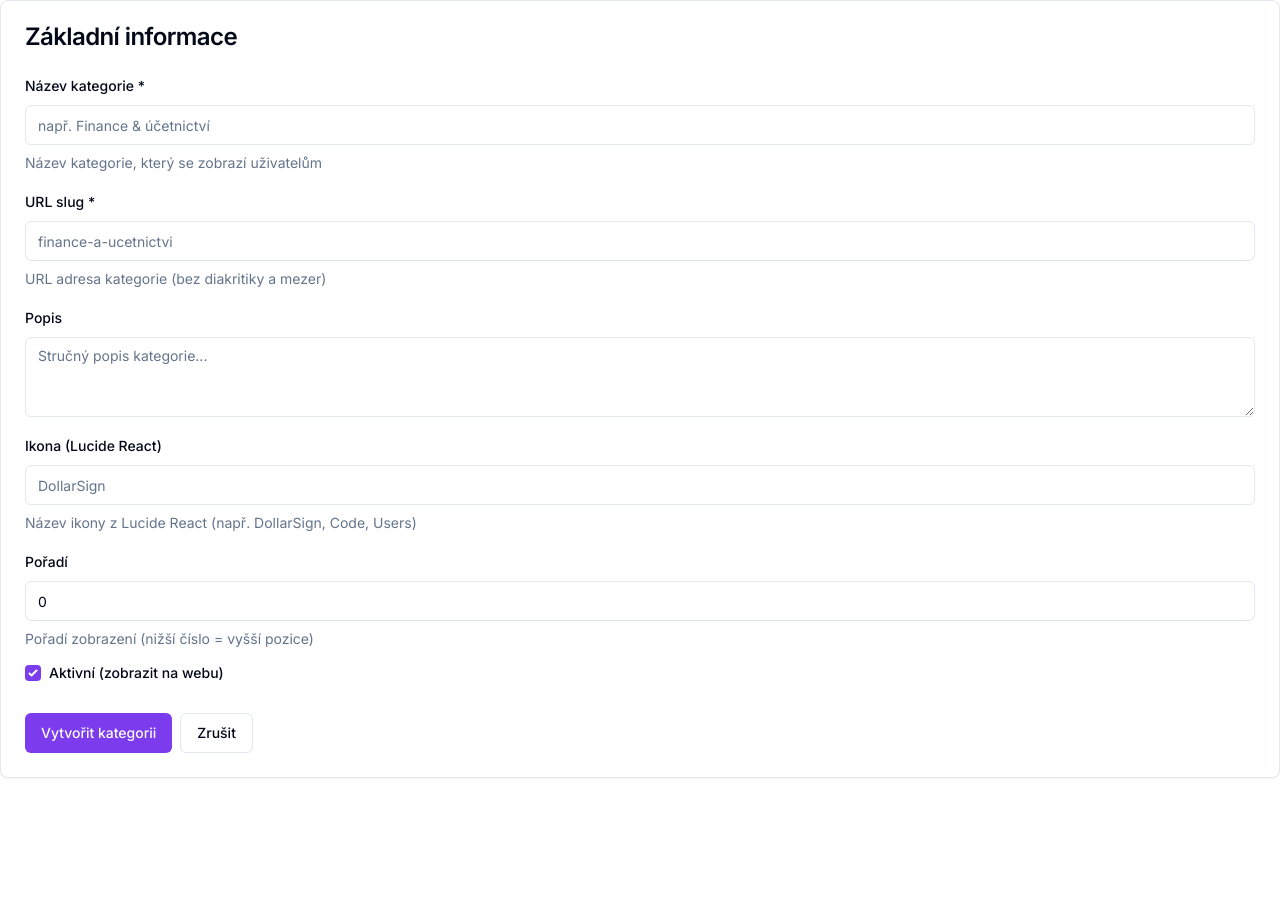
Test case: CategoryForm › should auto-generate slug from name
The width and height of the screenshot is (1280, 900).
In the field labelled "Název kategorie *": (640, 125) [25,105,1255,145], type "Finance & Účetnictví"
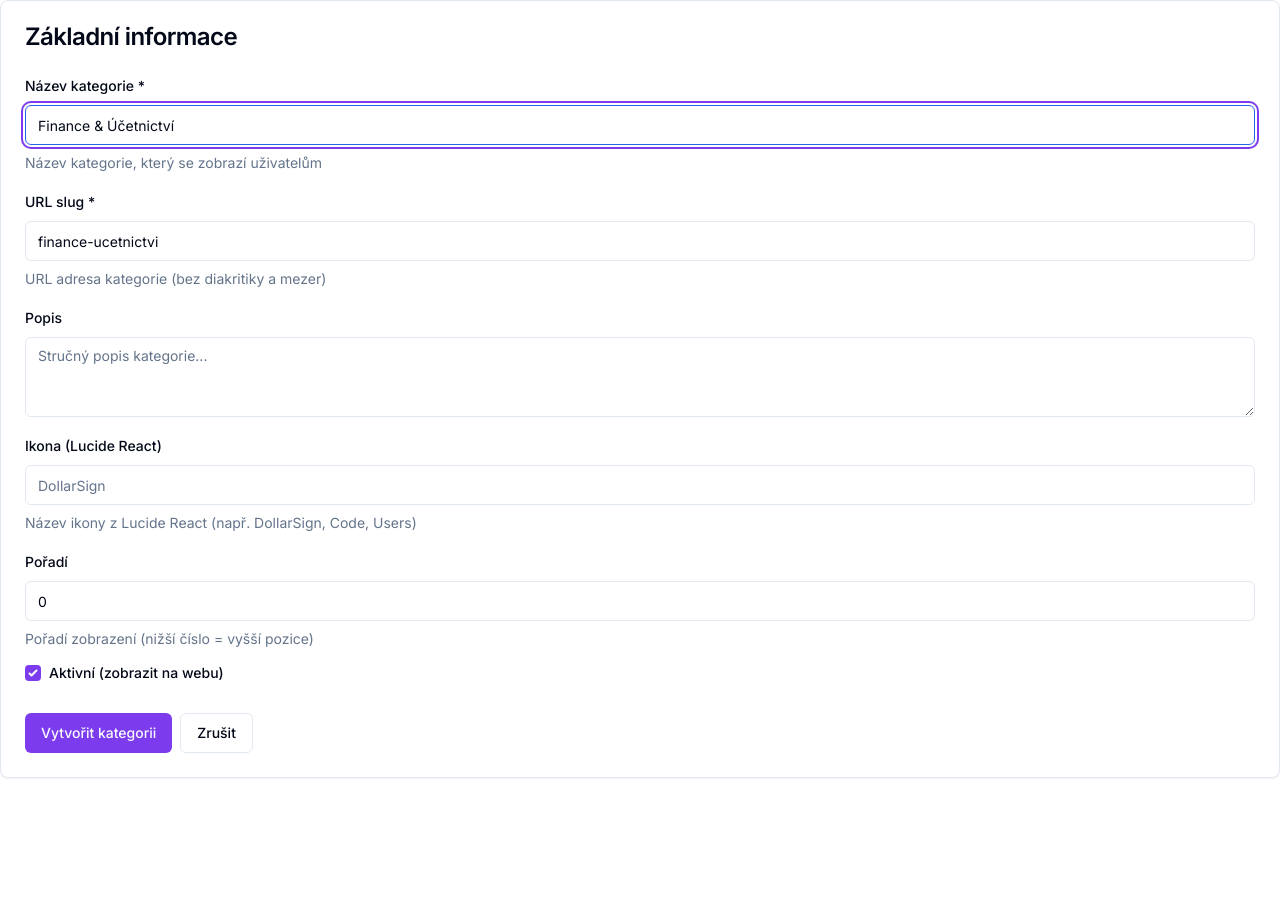
Result: the field labelled "URL slug *" holds "finance-ucetnictvi" at [25,221,1255,261]
